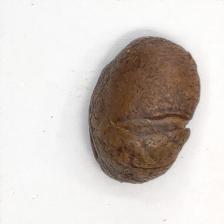NG: (121, 104, 195, 144), (119, 155, 171, 185)
